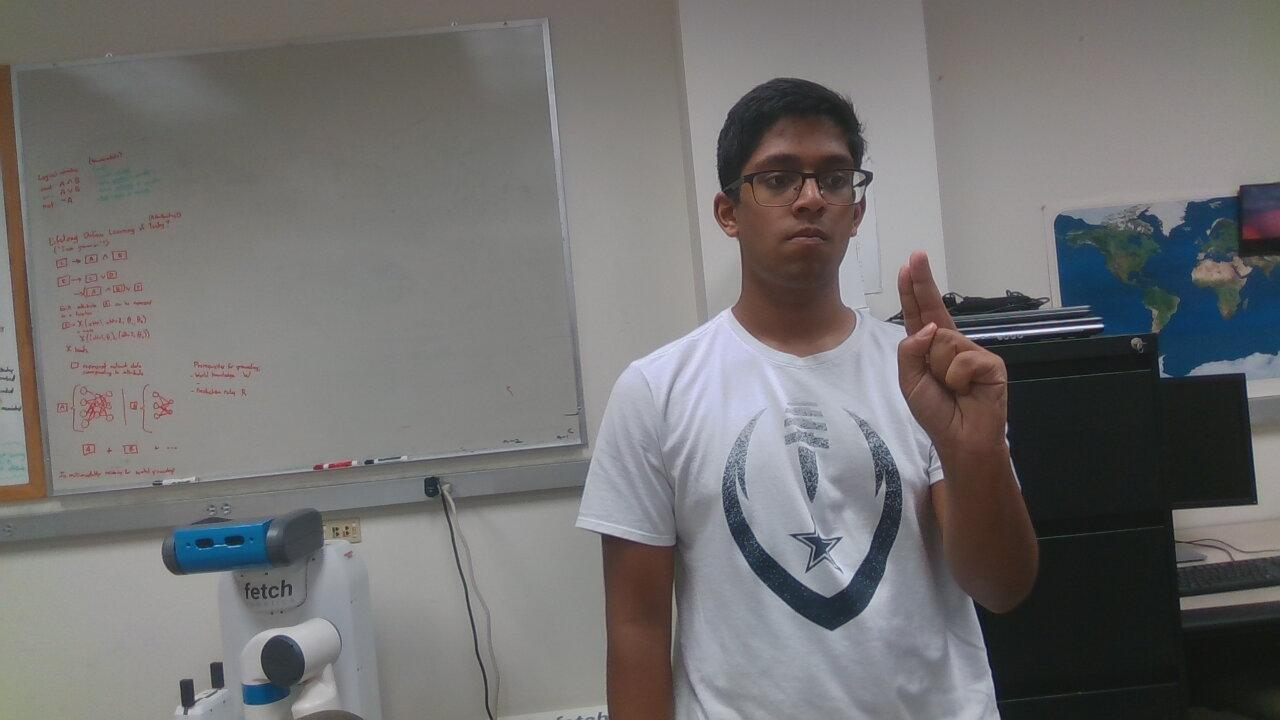hands: (815, 244, 1069, 467)
